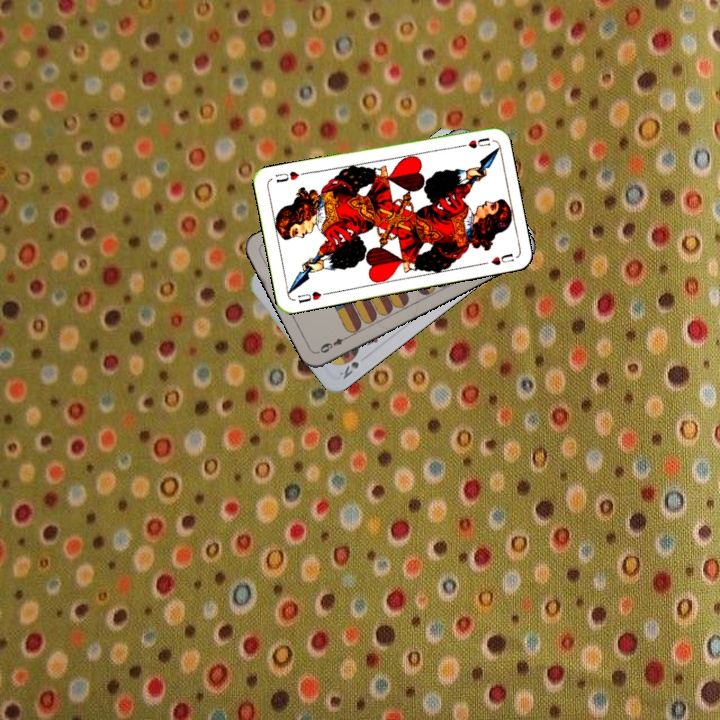E9: (316, 331, 352, 356)
HU: (293, 287, 331, 306), (453, 134, 493, 151)
SK: (335, 357, 361, 382)
